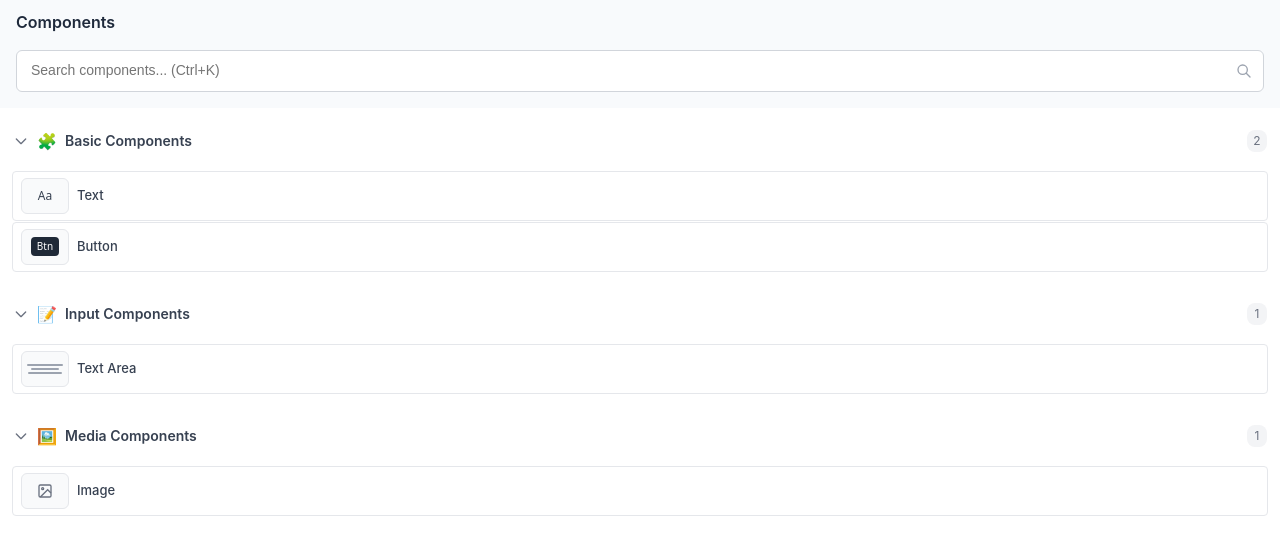
it: PalettePanel Layout › Search Functionality › shows search results when query is entered
Type "button" into the search field. click: [640, 71]
box: x1=16 y1=50 x2=1264 y2=92
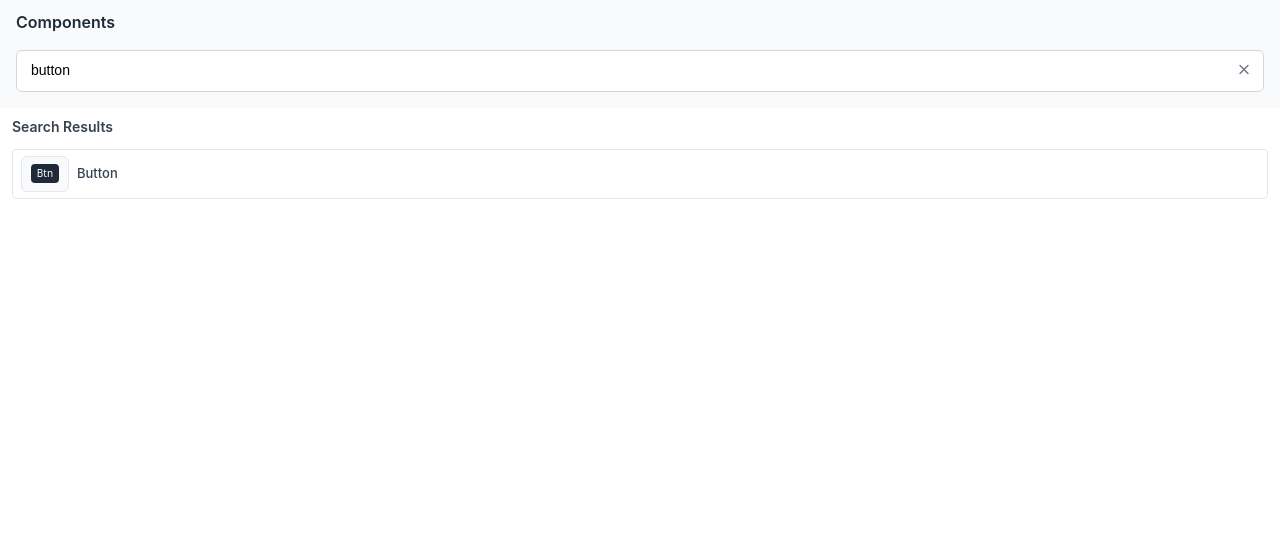
Check: the text "Search Results" is shown, box x1=12 y1=118 x2=113 y2=135
